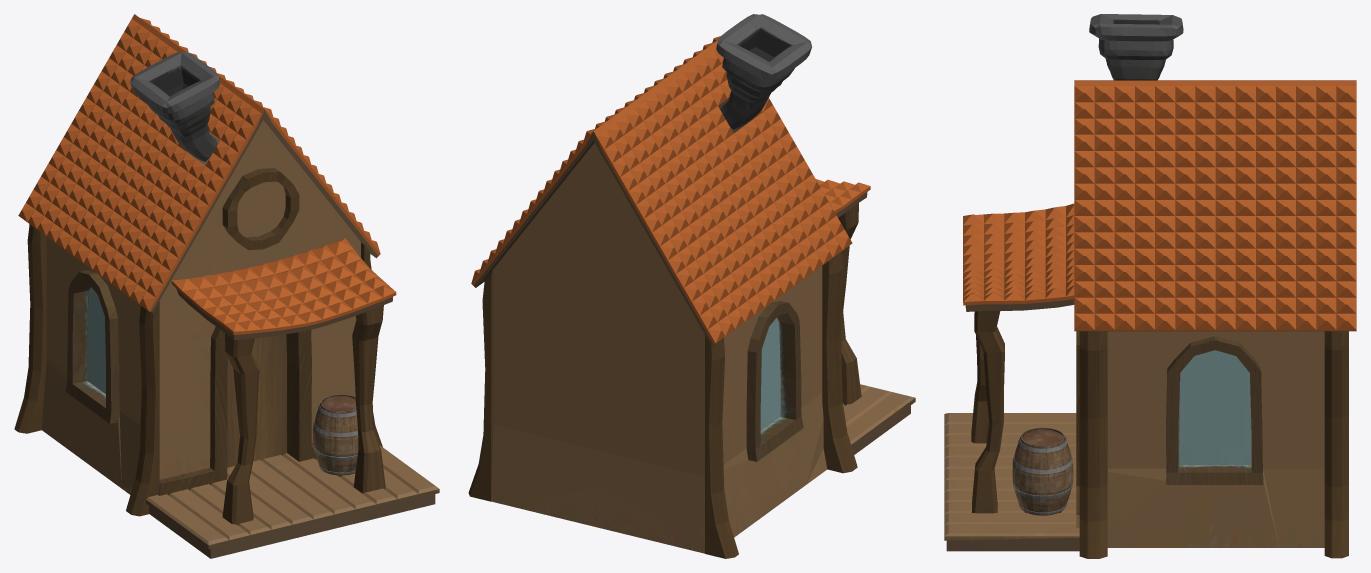
The picture shows the model from 3 angles, left to right: view 1: azimuth 30°, elevation 25°; view 2: azimuth 150°, elevation 25°; view 3: azimuth 270°, elevation 25°; orthographic projection. The views are drawn at different scales.
Visible parts, largest first — view 1: slot_anchor_house, slot_roof, slot_porch_canopy, slot_add01_a_wooden_barrel_wi; view 2: slot_anchor_house, slot_roof, slot_porch_canopy; view 3: slot_anchor_house, slot_roof, slot_porch_canopy, slot_add01_a_wooden_barrel_wi.
Boxes of the visible parts, x1,y1,x2,y2 form: slot_anchor_house: [14, 120, 439, 558]; slot_roof: [18, 14, 380, 312]; slot_porch_canopy: [171, 238, 396, 340]; slot_add01_a_wooden_barrel_wi: [313, 394, 358, 476]; slot_anchor_house: [468, 97, 915, 558]; slot_roof: [471, 14, 852, 345]; slot_porch_canopy: [816, 179, 870, 217]; slot_anchor_house: [944, 311, 1348, 558]; slot_roof: [1074, 14, 1356, 331]; slot_porch_canopy: [963, 203, 1074, 311]; slot_add01_a_wooden_barrel_wi: [1012, 427, 1073, 515].
Bounding box in the file's own units: 0.7265 × 1.13 × 0.9419.
Materials: 2 (2 with a texture image).
